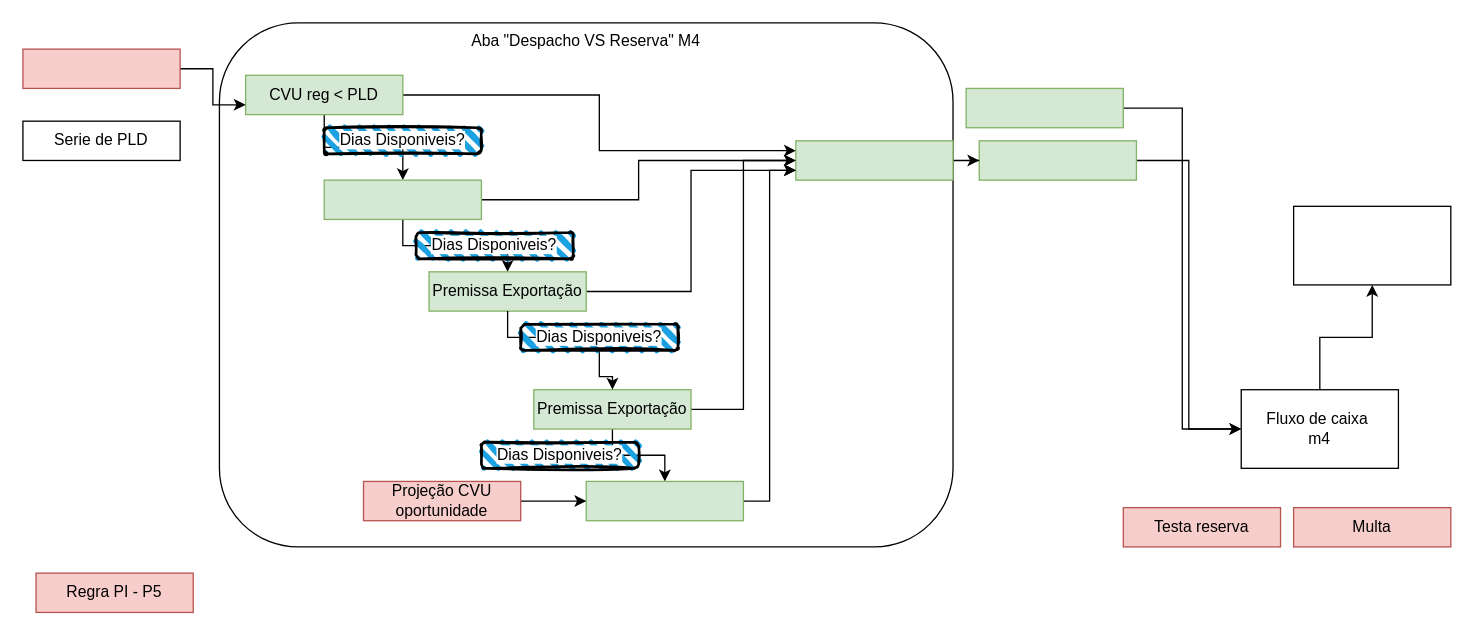
Image size: 1474x635. Some labels were removed from this diagram. Here are the shapes that lost their labels. From the top down, the centre of each, then its label:
At [101,68]: "ProjeçãoCVU".
At [1044,107]: "RF Mensal".
At [874,160]: "Despacho Variavel".
At [1057,160]: "Receita Variavel".
At [402,199]: "Premissa REL".
At [1371,245]: "VPL".
At [664,500]: "CVU Op < PLD".
